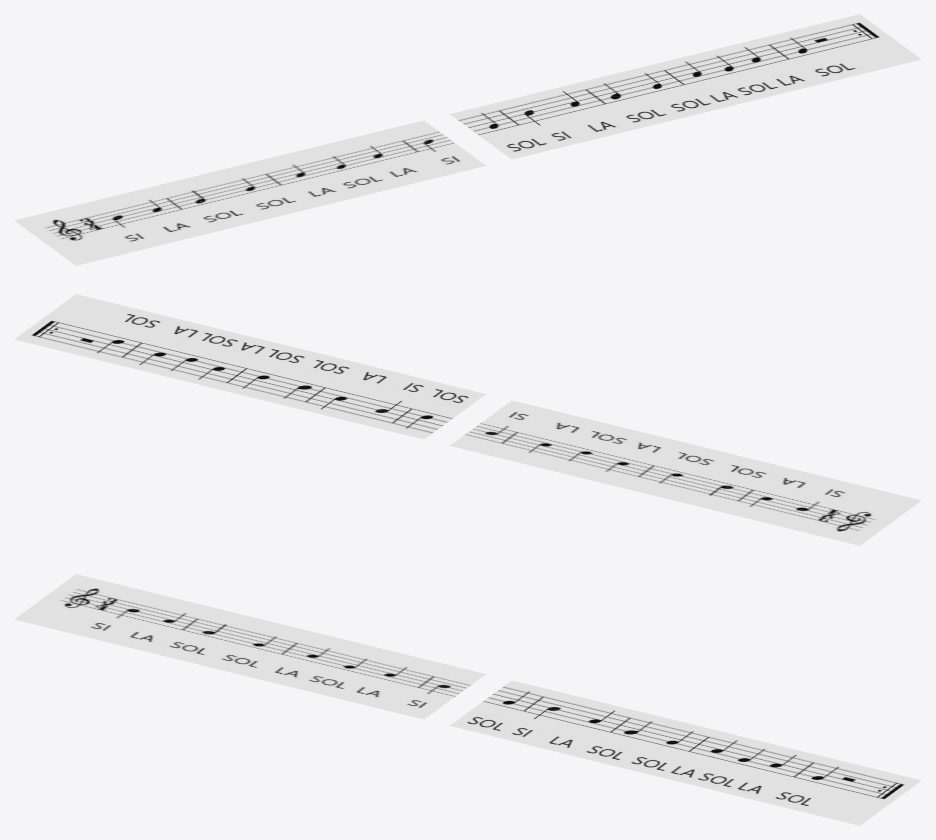
File: Piano 1.fbx
3 views of the same model, one above another, from view 1: azimuth 30°, elevation 25°; view 2: azimuth 150°, elevation 25°; view 3: azimuth 330°, elevation 25° (orthographic).
Parts seen in each view (by area): view 1: Plane.001, Plane.002; view 2: Plane.001, Plane.002; view 3: Plane.001, Plane.002.
Part boxes in pixels (bbox=[...]): Plane.001: bbox=[14, 120, 485, 265]; Plane.002: bbox=[450, 14, 921, 159]; Plane.001: bbox=[450, 400, 921, 545]; Plane.002: bbox=[14, 294, 485, 439]; Plane.001: bbox=[14, 574, 485, 719]; Plane.002: bbox=[450, 680, 921, 825].
Bounding box in the file's own units: 10830 × 0.000224 × 1377.
Materials: 2 (2 with a texture image).
